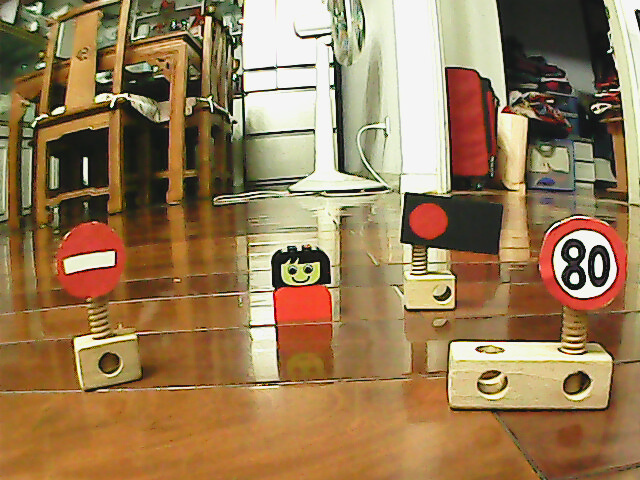Person: (267, 242, 336, 325)
Red Traffic Light: (404, 195, 453, 244)
Speed Limit 80: (536, 213, 630, 314)
Stop Sign: (51, 218, 129, 301)
